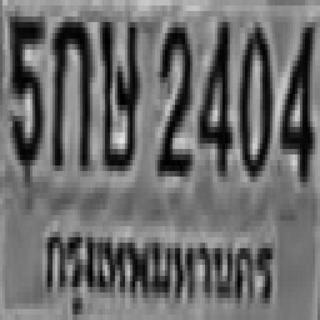A01: (50, 11, 90, 165)
A39: (98, 11, 138, 165)
N00: (238, 17, 270, 171)
N02: (156, 17, 189, 171)
N04: (278, 17, 312, 176), (195, 14, 230, 168)
N05: (8, 11, 42, 165)
P04: (35, 215, 275, 320)
